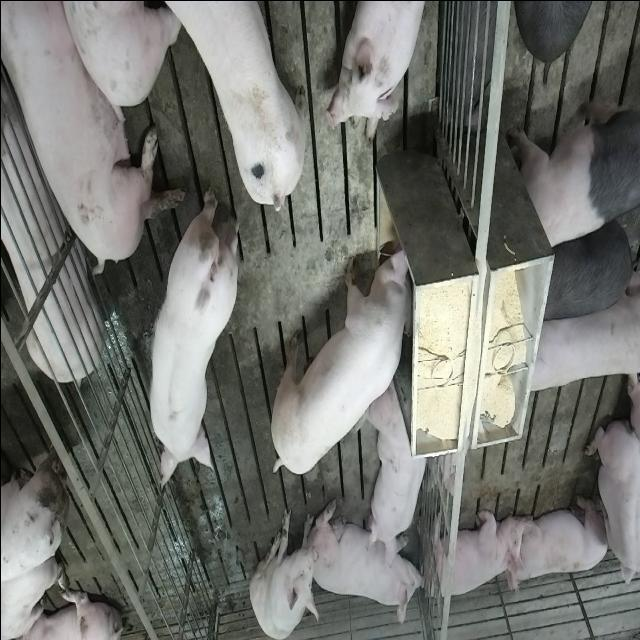Feeding: (272, 238, 420, 476)
Lateral_lying: (2, 0, 184, 273), (0, 44, 102, 383)
Sitting: (249, 505, 320, 639)
Standing: (135, 2, 310, 214), (145, 179, 239, 489), (510, 76, 639, 254), (522, 282, 638, 396), (539, 220, 637, 323)
Sternal_lying: (315, 500, 425, 628), (331, 0, 433, 138), (366, 382, 431, 562), (584, 412, 638, 598), (509, 491, 610, 589), (426, 506, 518, 602)
